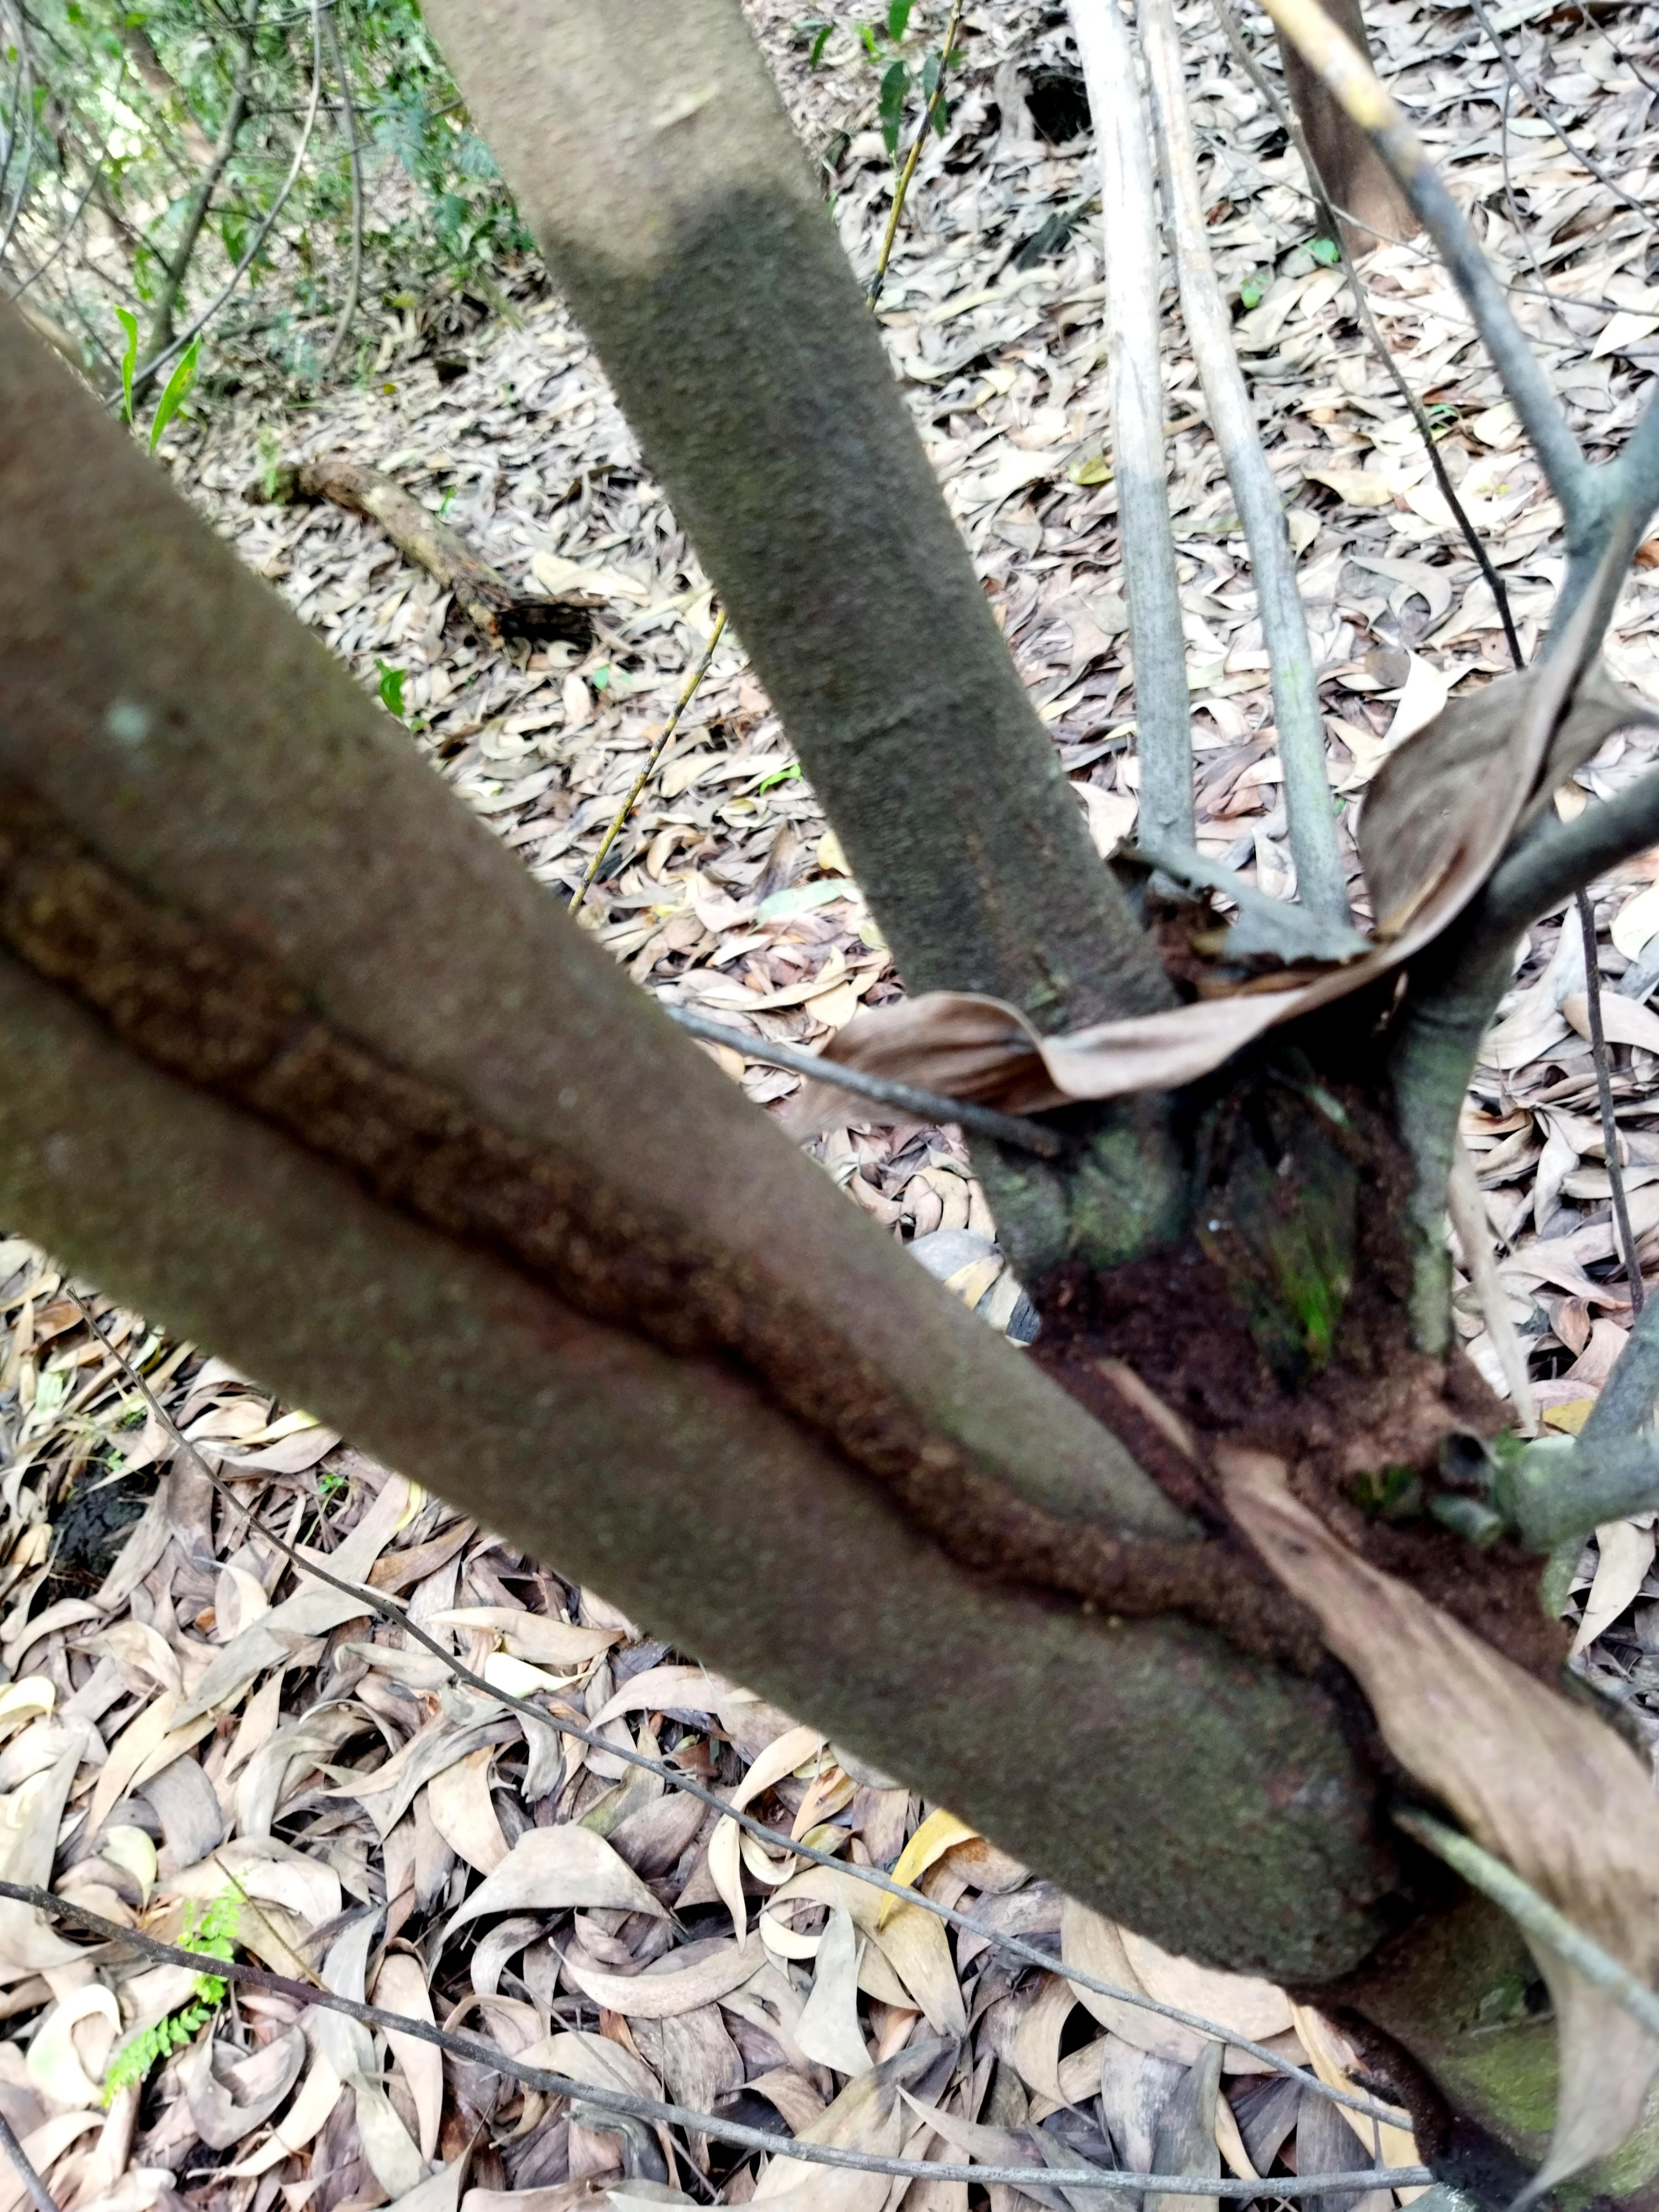Termite - Nest: (0, 747, 1481, 1712)
